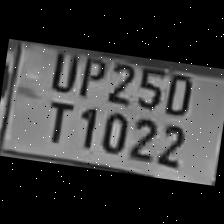0: (95, 104, 131, 155)
1: (69, 98, 101, 151)
2: (101, 53, 138, 106), (124, 110, 160, 163), (152, 117, 188, 170)
5: (132, 60, 166, 110)
D: (160, 66, 197, 116)
P: (74, 48, 110, 102)
T: (38, 93, 76, 146)
U: (44, 43, 81, 92)
